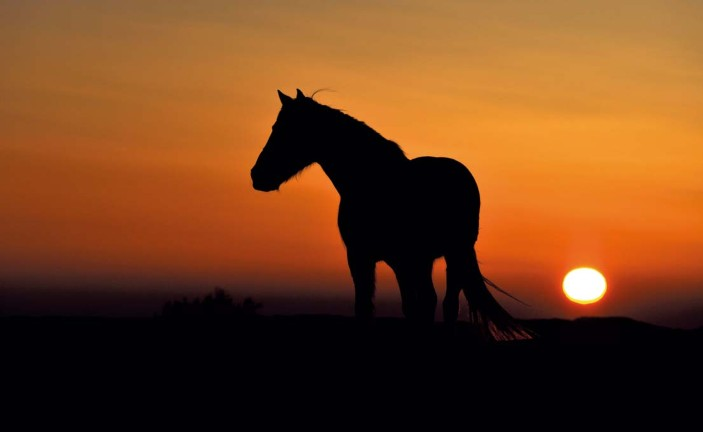Horse: (250, 88, 531, 360)
